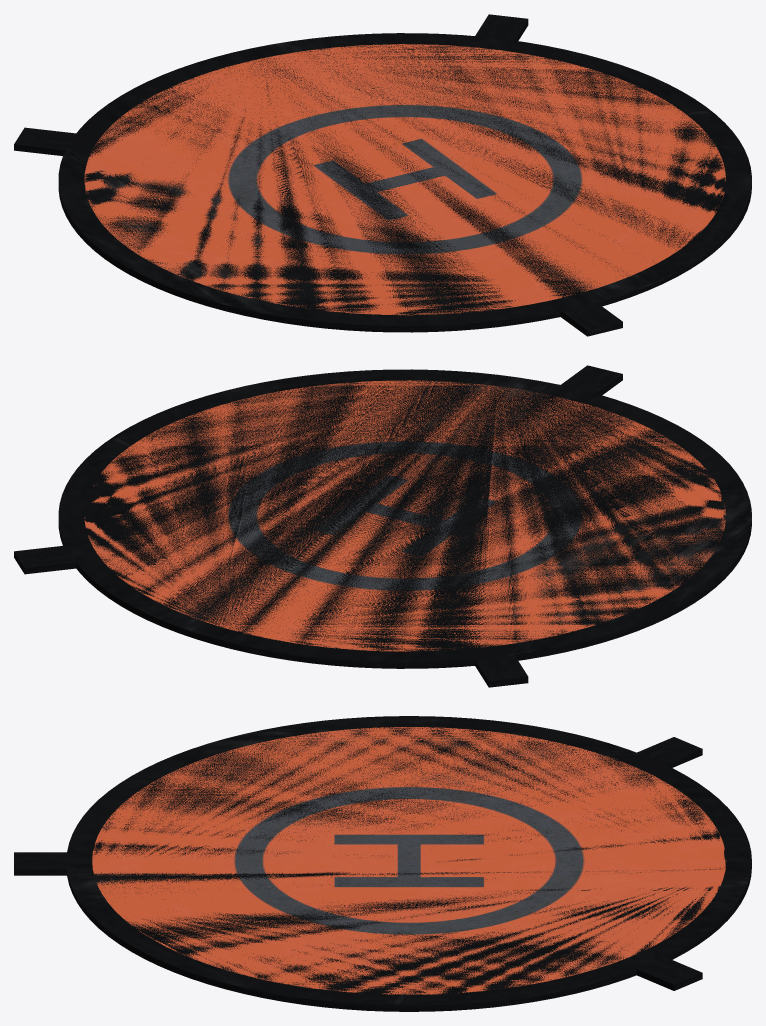
Rendered from DronePad_orange.fbx.
3 views of the same model, one above another, from view 1: azimuth 30°, elevation 25°; view 2: azimuth 150°, elevation 25°; view 3: azimuth 270°, elevation 25° (orthographic).
Parts seen in each view (by area): view 1: DronePad_blue, DronePadSupport, DronePadSupport_1, DronePadSupport_2, DronePadSupport_3; view 2: DronePadSupport, DronePad_blue, DronePadSupport_3, DronePadSupport_2, DronePadSupport_1; view 3: DronePad_blue, DronePadSupport, DronePadSupport_3, DronePadSupport_1, DronePadSupport_2.
Part boxes in pixels (x1,y1,x2,y2): DronePad_blue: (84,44,725,315); DronePadSupport: (58,33,751,332); DronePadSupport_1: (560,301,622,336); DronePadSupport_2: (14,127,77,155); DronePadSupport_3: (475,14,528,40); DronePadSupport: (58,369,751,668); DronePad_blue: (84,380,725,651); DronePadSupport_3: (14,545,76,574); DronePadSupport_2: (475,654,528,687); DronePadSupport_1: (561,365,622,395); DronePad_blue: (92,727,726,994); DronePadSupport: (66,716,751,1011); DronePadSupport_3: (636,957,702,990); DronePadSupport_1: (14,852,68,875); DronePadSupport_2: (635,737,702,767).
Bounding box in the file's own units: 200 × 2 × 215.
